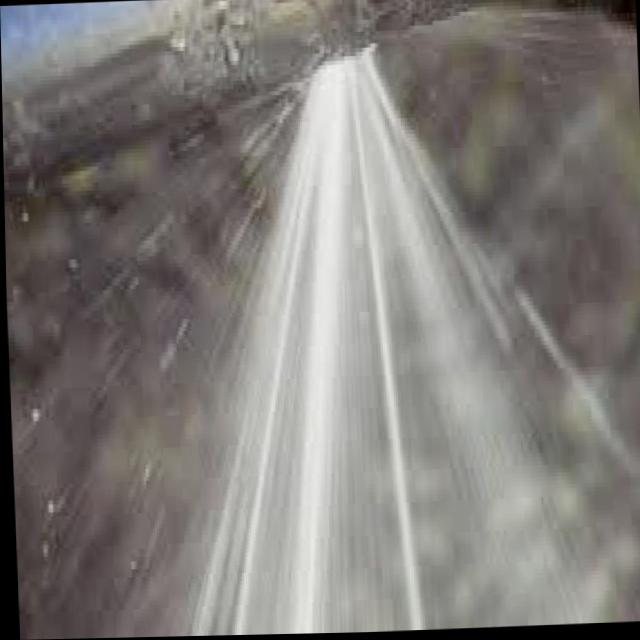leak: (189, 54, 585, 636)
